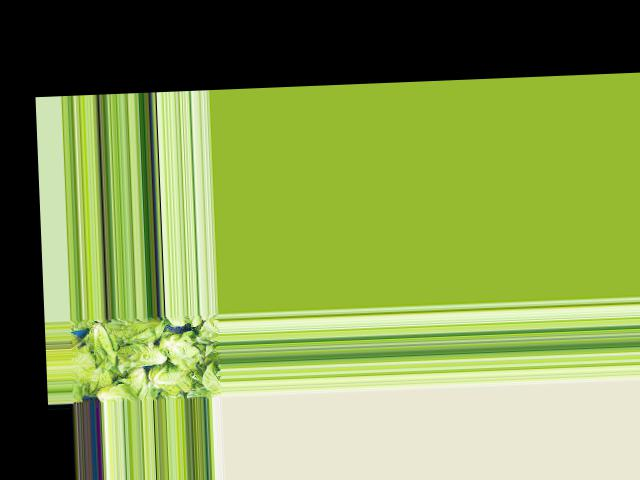lettuce: (89, 381, 139, 402)
